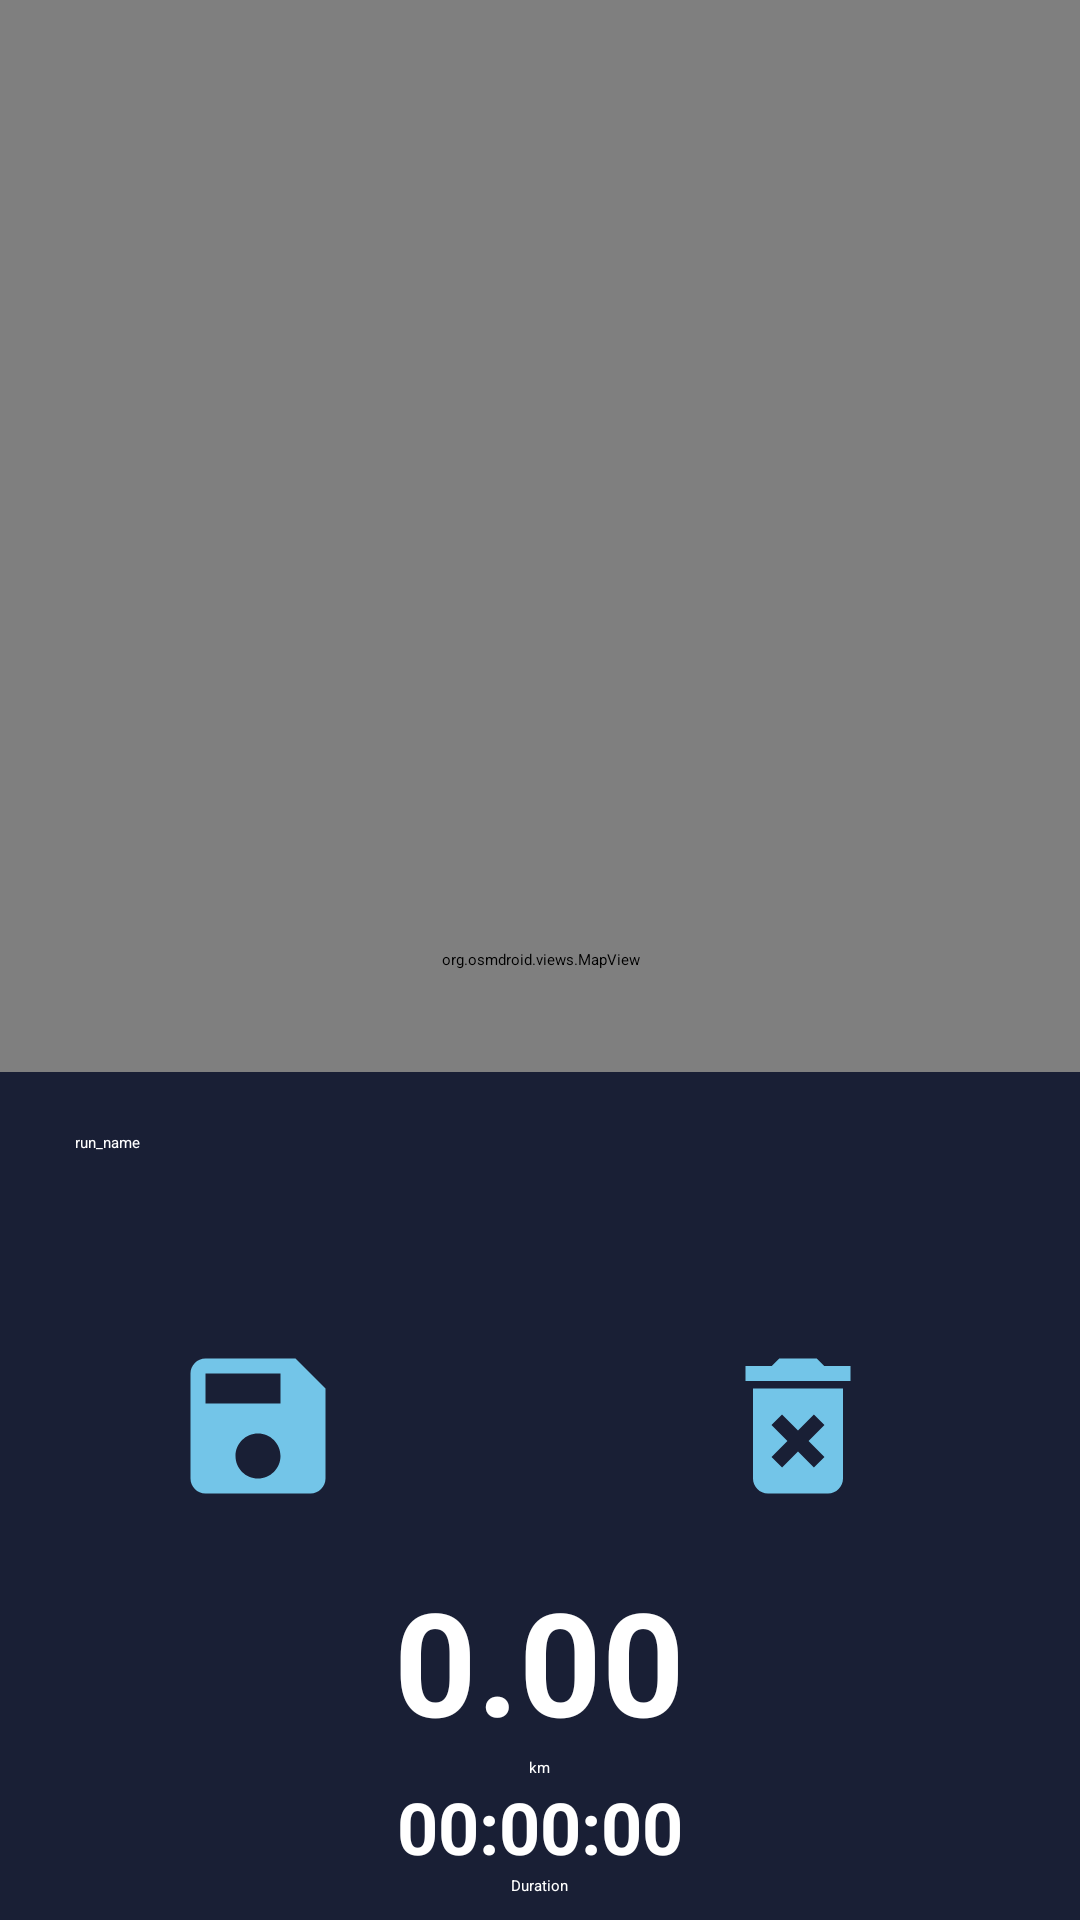

Named icons in this screenshot (1080*1920) and their centers, [x,y]:
delete forever: [798,1426]
save: [258,1426]
